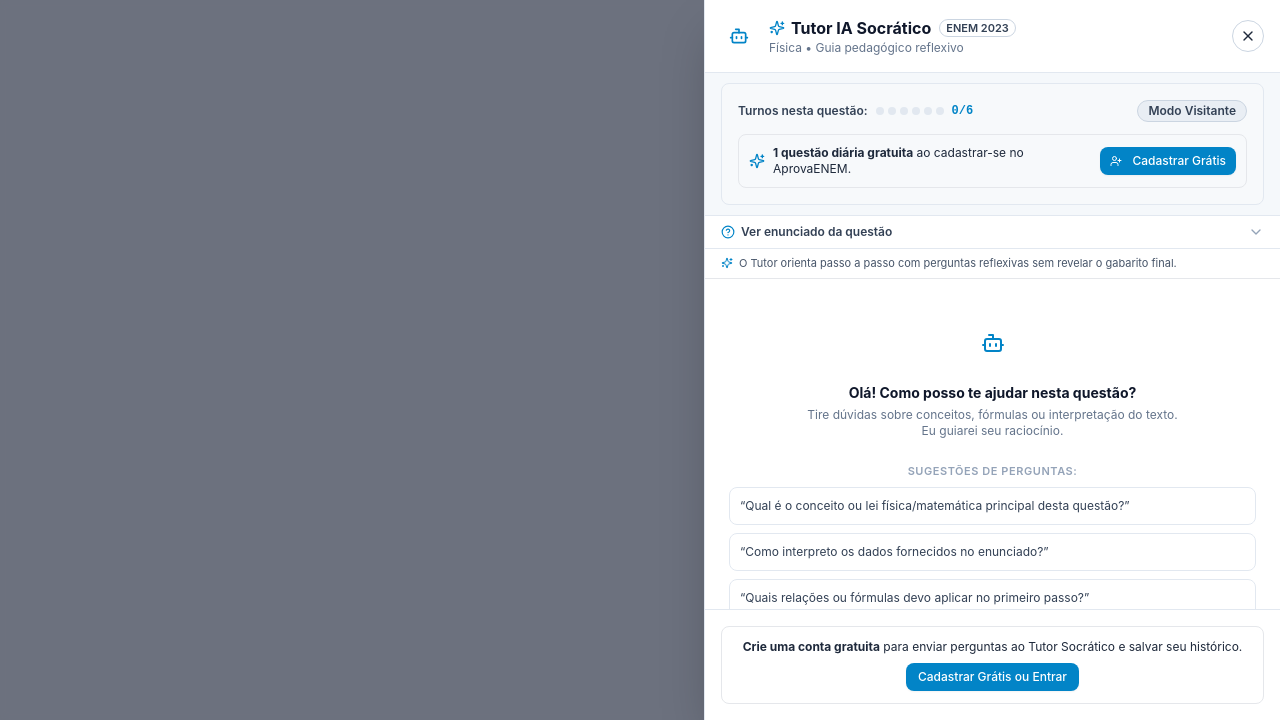
Test case: SocraticTutorDrawer Component › should toggle question statement snippet expansion
Click the button "Ver enunciado da questão" at [817, 232], box [705, 216, 1279, 248]
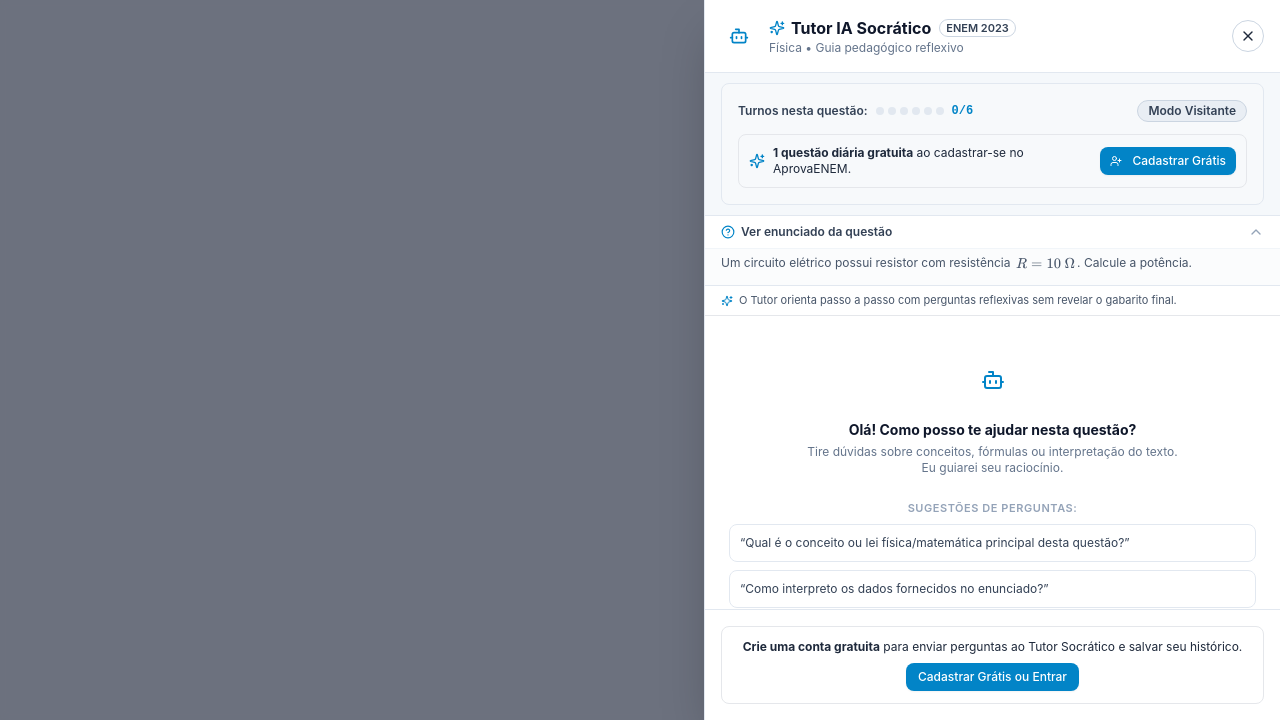
Now the button "Ver enunciado da questão" is expanded
Now the text "Um circuito elétrico possui resistor" is shown, box [721, 255, 1014, 270]
Click the button "Ver enunciado da questão" at [817, 232], box [705, 216, 1279, 248]
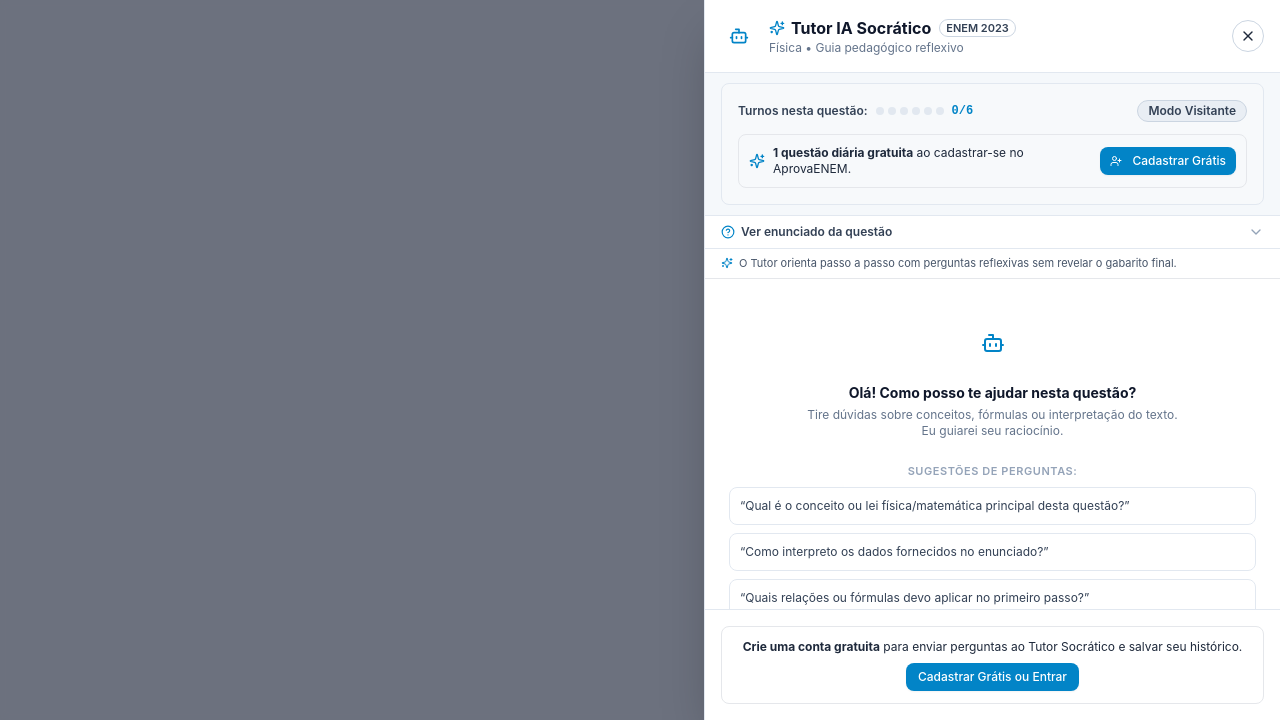
Now the button "Ver enunciado da questão" is collapsed, box [705, 216, 1279, 248]
